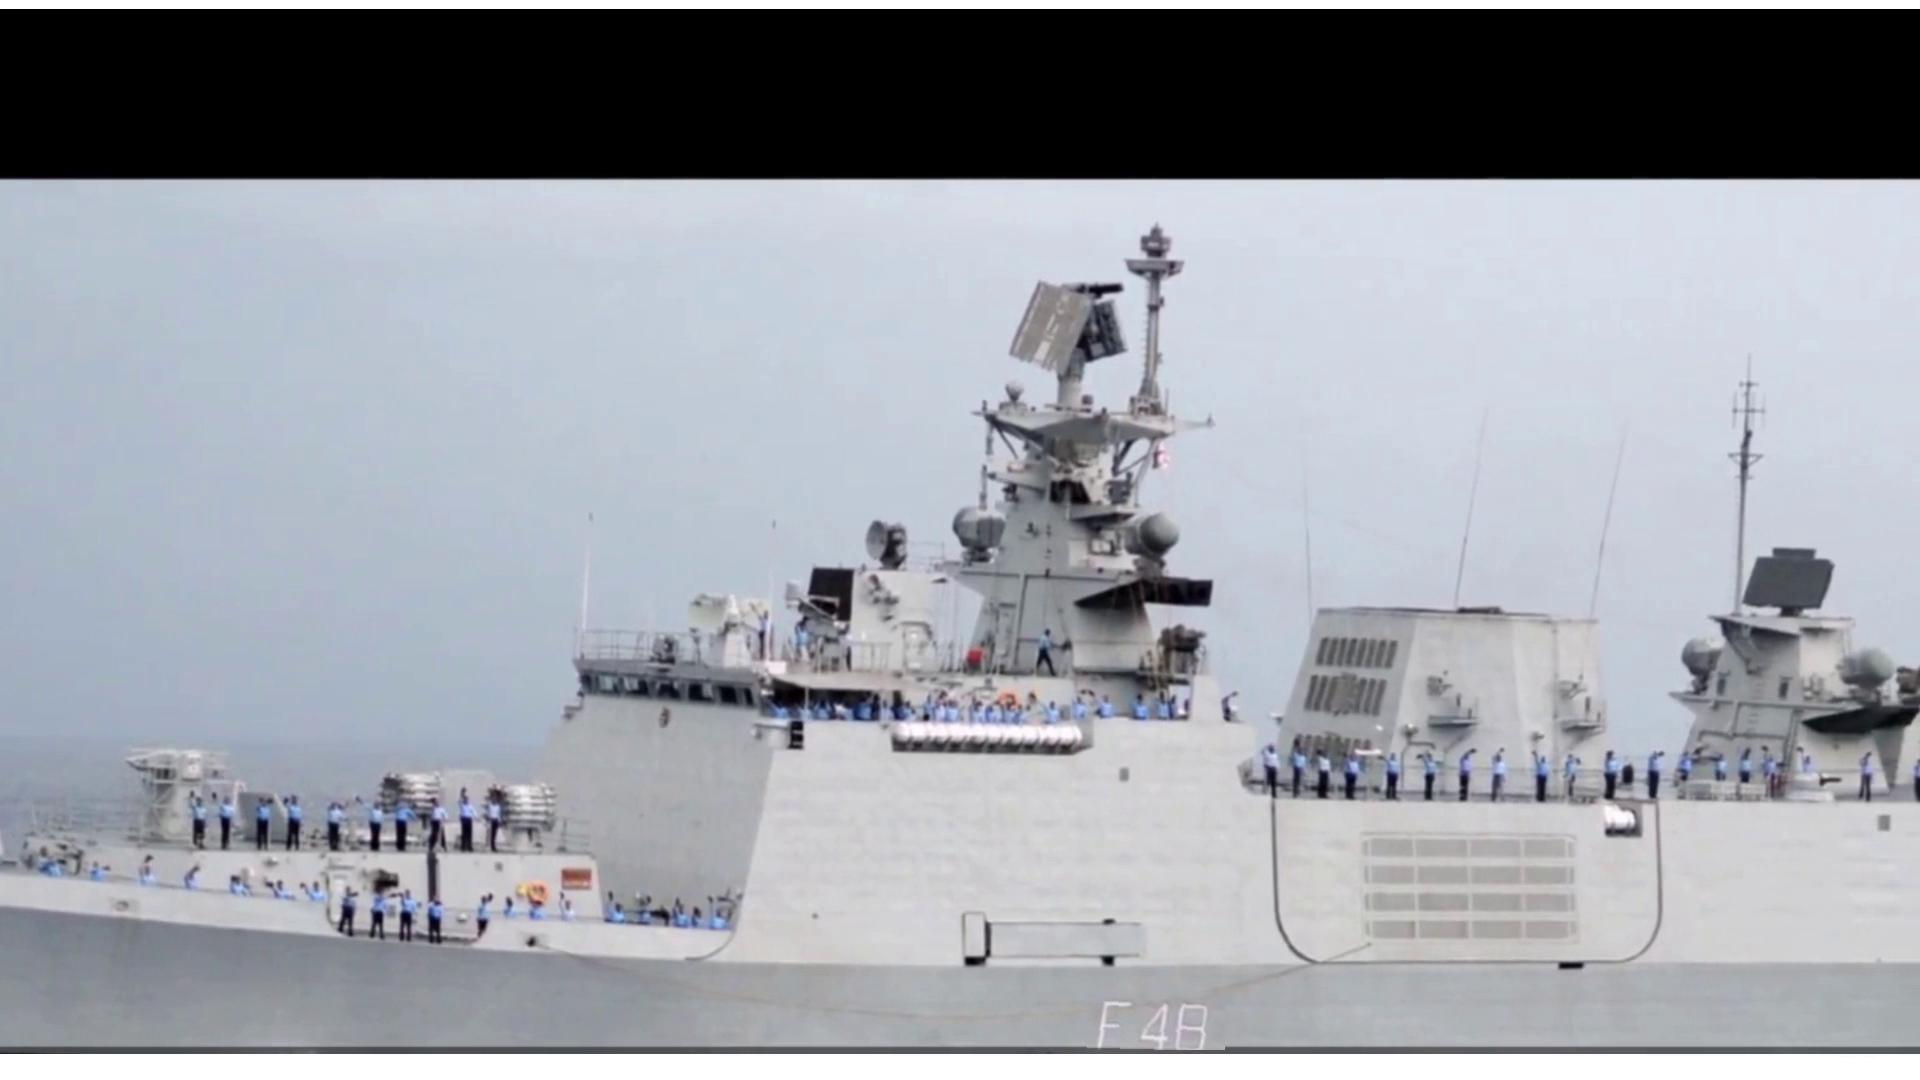OCR: (1067, 988, 1225, 1050)
